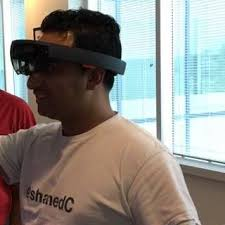hololens: (8, 38, 127, 81)
